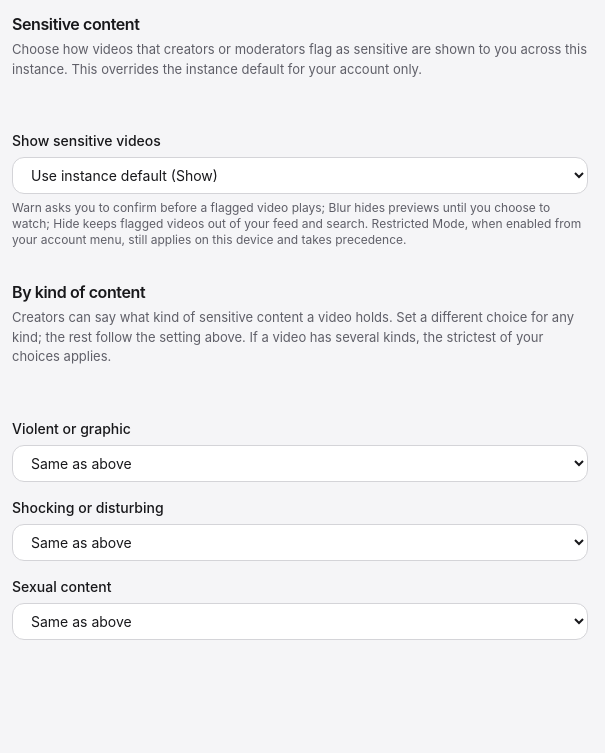
Test: ContentSettingsView › reverts the selection and reports an error when the save fails
The width and height of the screenshot is (605, 753).
Select "Warn before playing" in the dropdown labelled "Show sensitive videos": [300, 176] box [12,157,588,194]
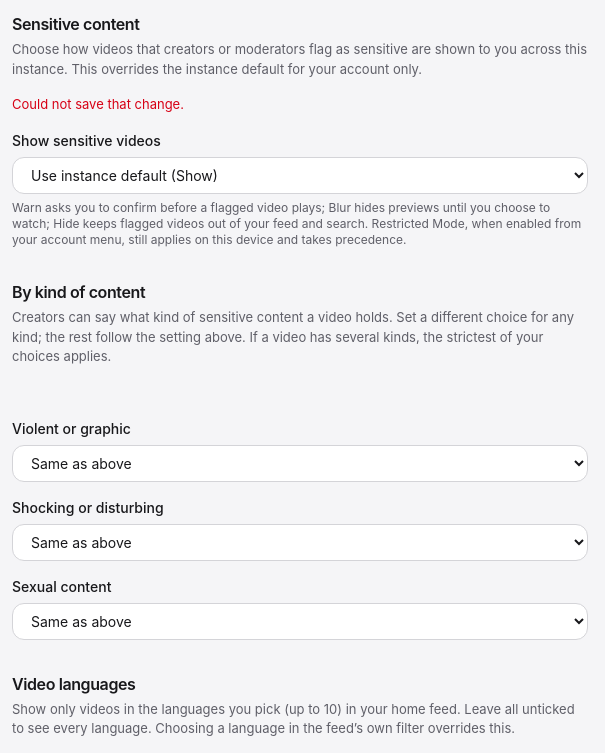
Expected: the text "Could not save that change." is shown, [12,96,184,112]
